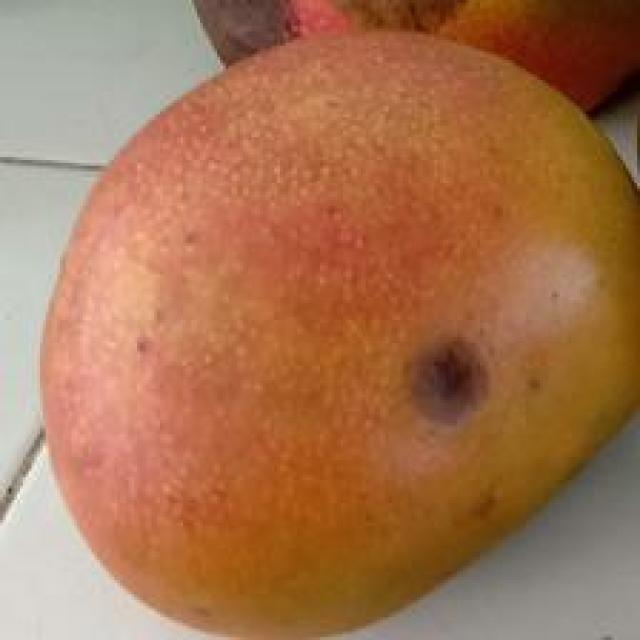Mango: (37, 29, 640, 640), (183, 0, 640, 117)
